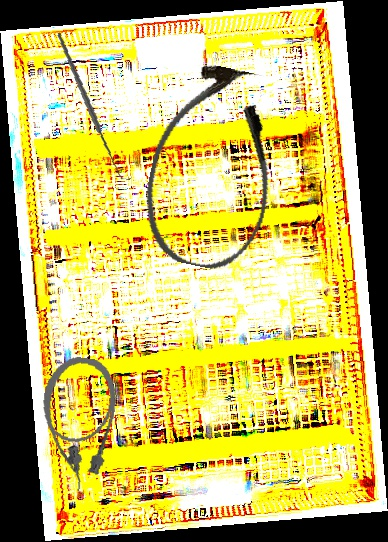Cannula: (133, 56, 293, 278), (31, 353, 122, 495)
Hook Surgical: (39, 32, 148, 181)
